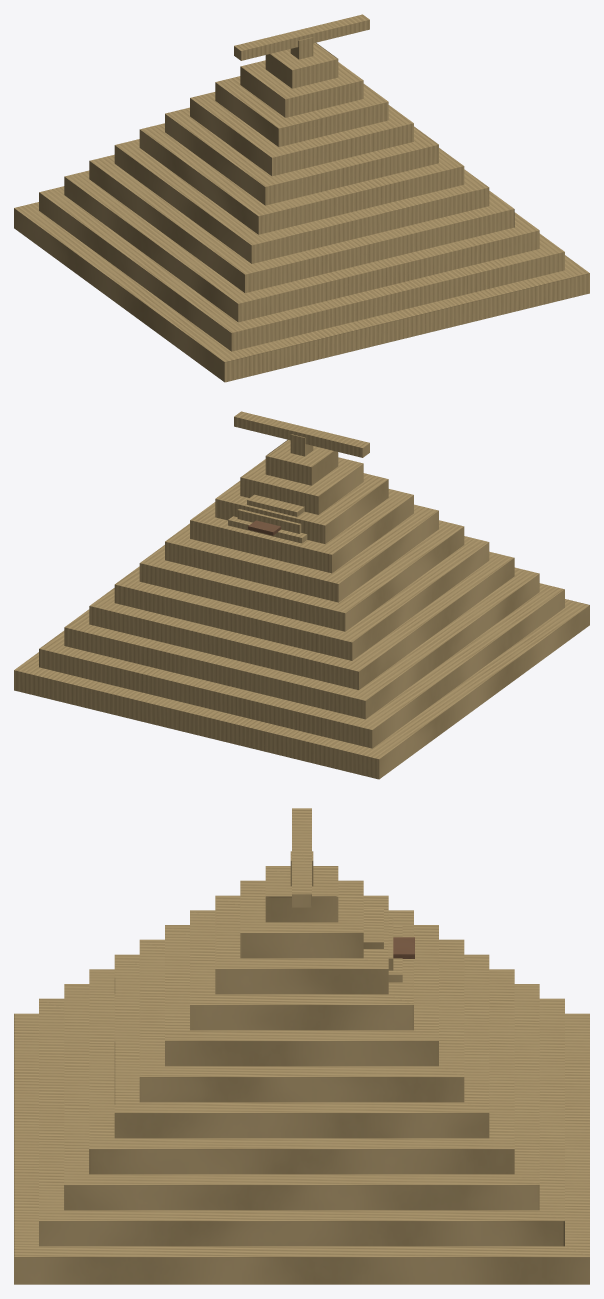
File: med_roof_thatch_hip.glb
3 views of the same model, one above another, from view 1: azimuth 30°, elevation 25°; view 2: azimuth 150°, elevation 25°; view 3: azimuth 270°, elevation 25° (orthographic). The views are drawn at different scales.
Visible parts, largest first — view 1: med_roof_thatch_hip; view 2: med_roof_thatch_hip; view 3: med_roof_thatch_hip.
Boxes of the visible parts, box(x1,y1,x2,y2) form: med_roof_thatch_hip: box(14, 14, 589, 382); med_roof_thatch_hip: box(14, 411, 589, 779); med_roof_thatch_hip: box(14, 808, 589, 1284).
Bounding box in the file's own units: 4.08 × 2.43 × 4.08.
1 material, 1 textured.
